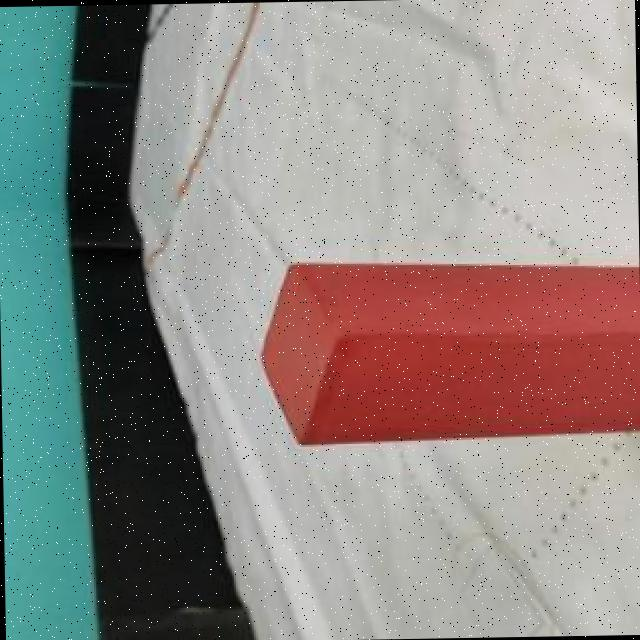redbox: (257, 253, 640, 449)
